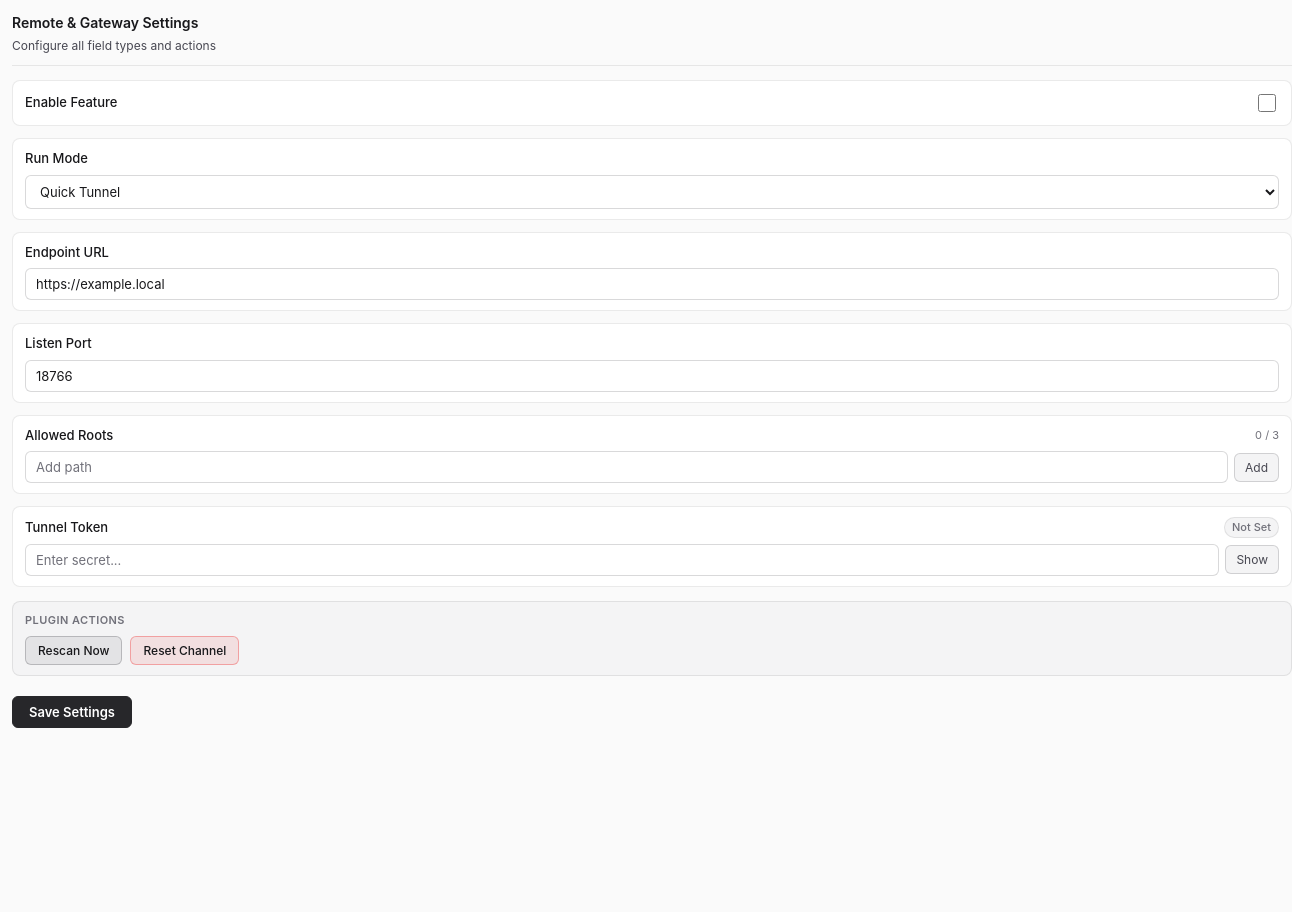
Test: Suite F2: SchemaSettingsForm › validates number bounds before submitting
The width and height of the screenshot is (1292, 912).
Replace the text in the number field labelled "Listen Port" with "80" at (652, 376), box 25,360 -> 1279,392
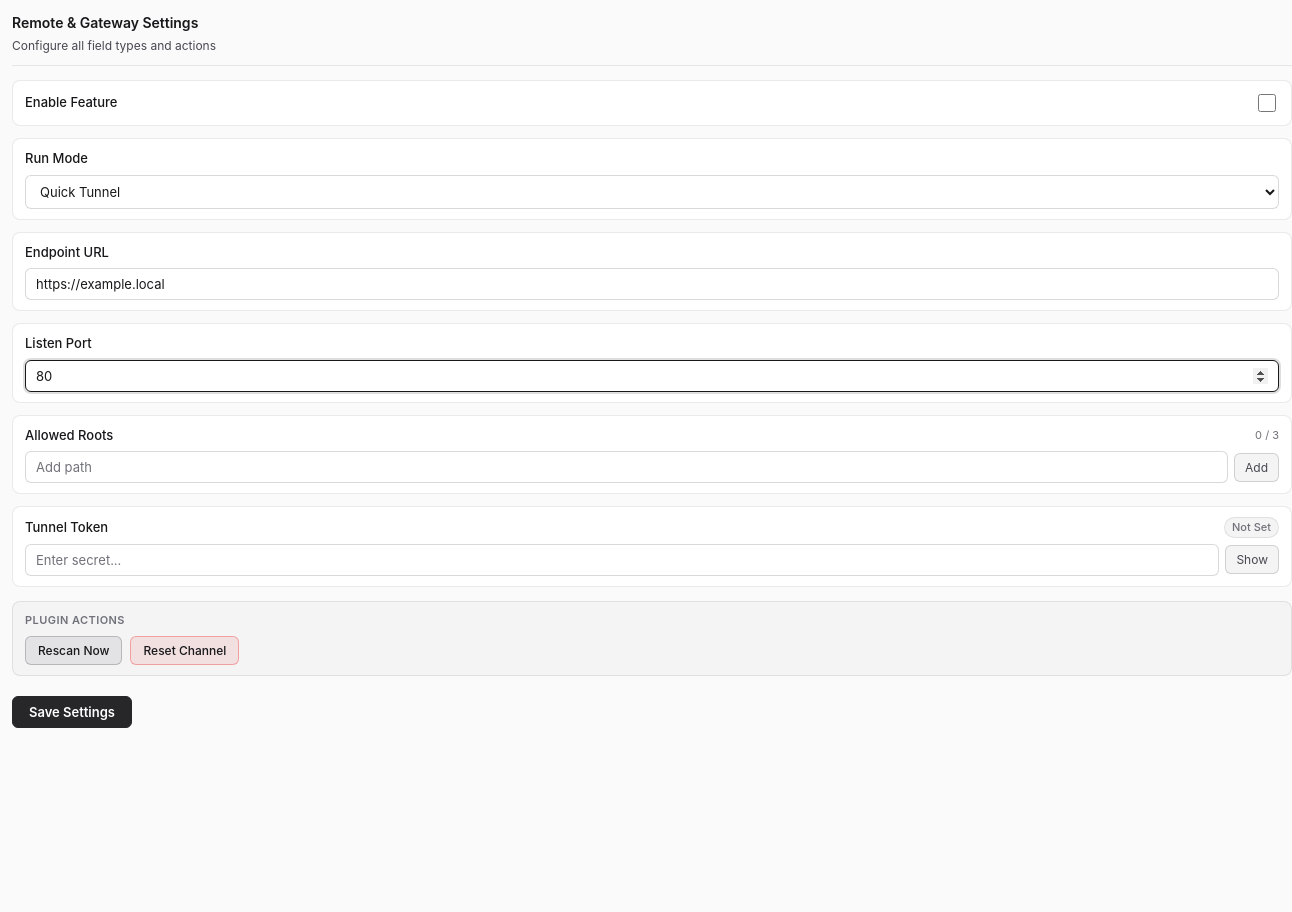
Click the button "Save Settings" at (72, 712), box 12,696 -> 132,728
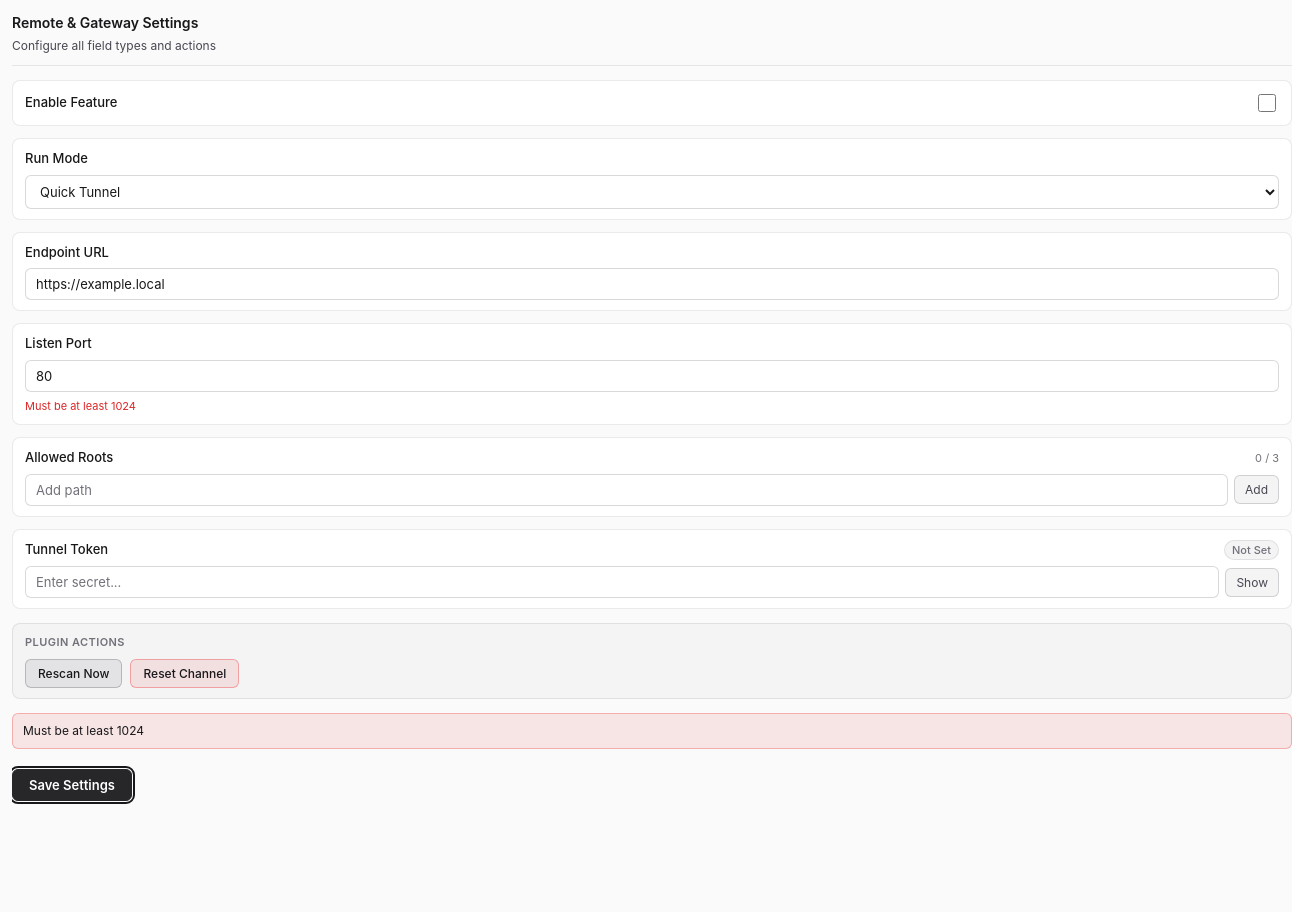
expect the message shows "1024": met, box 23,722 -> 144,738
